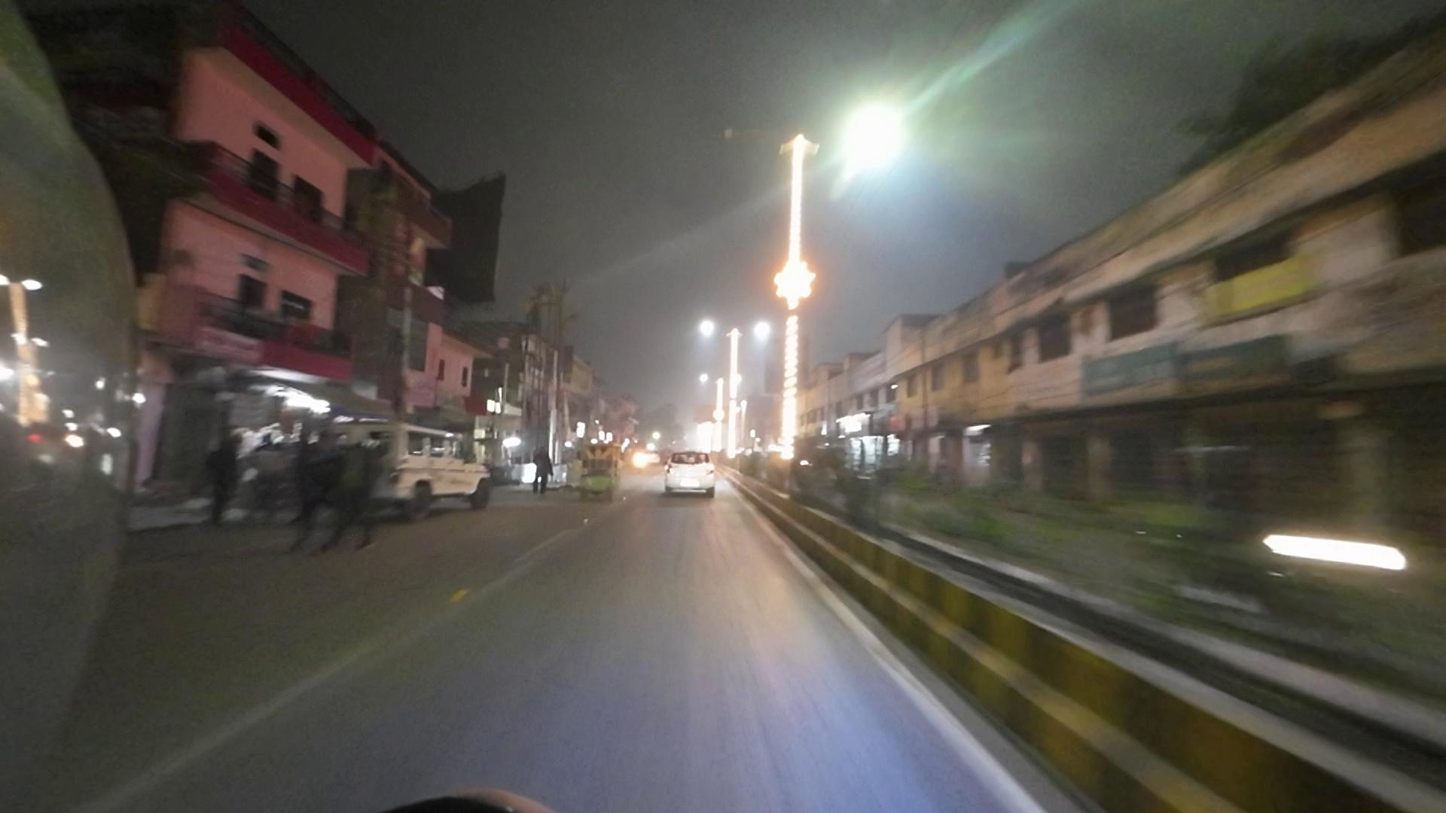streetlight: (718, 123, 786, 147)
